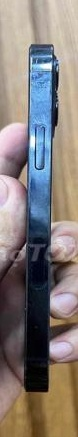scratch: (25, 69, 57, 128)
